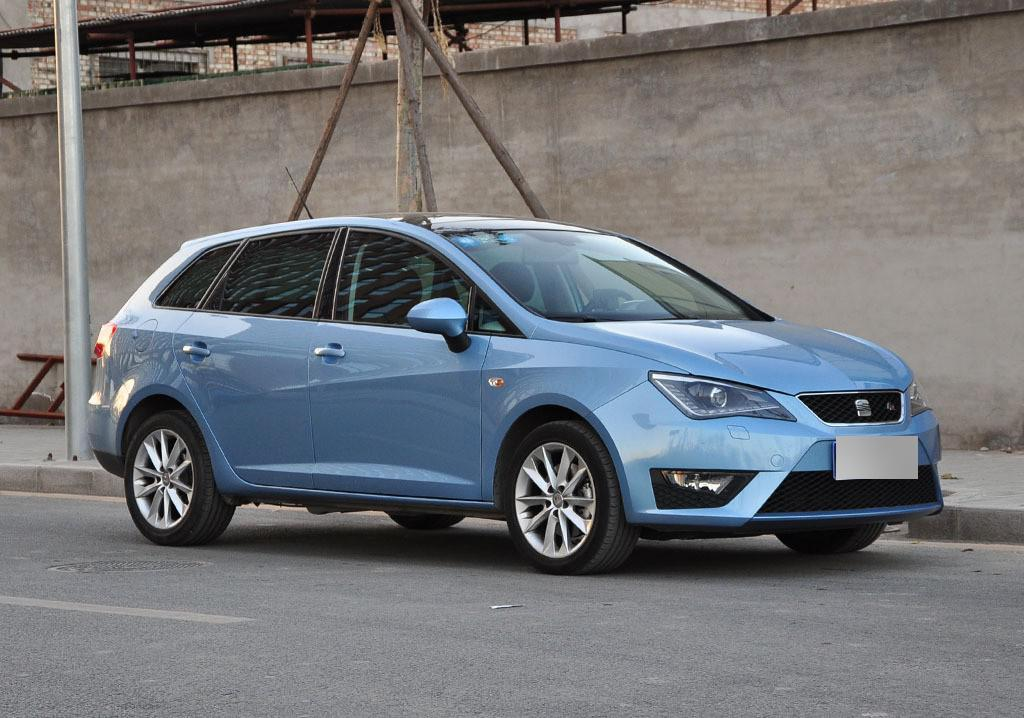Wagon: (89, 214, 943, 573)
